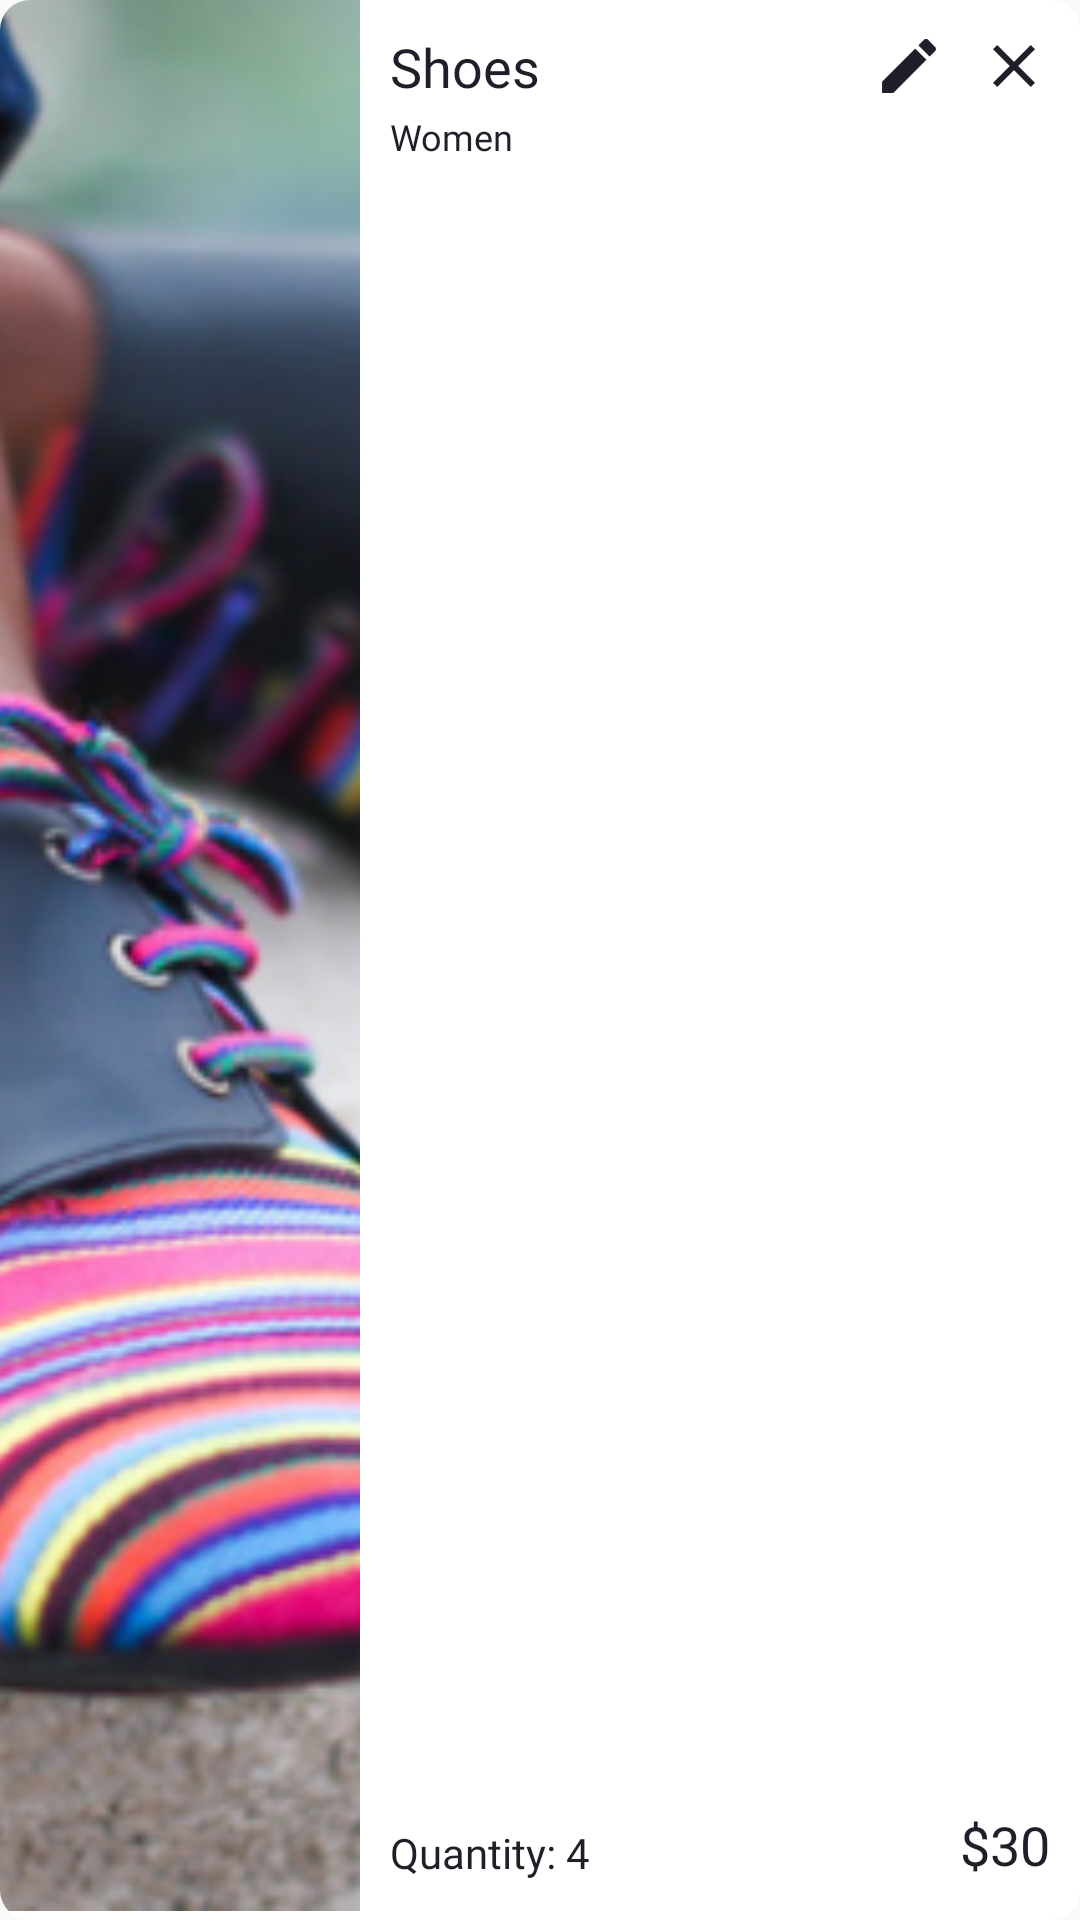

Icon click points for this 1080x1920 phone screenshot, format point (x, y):
close: point (1014, 66)
edit: point (909, 66)
